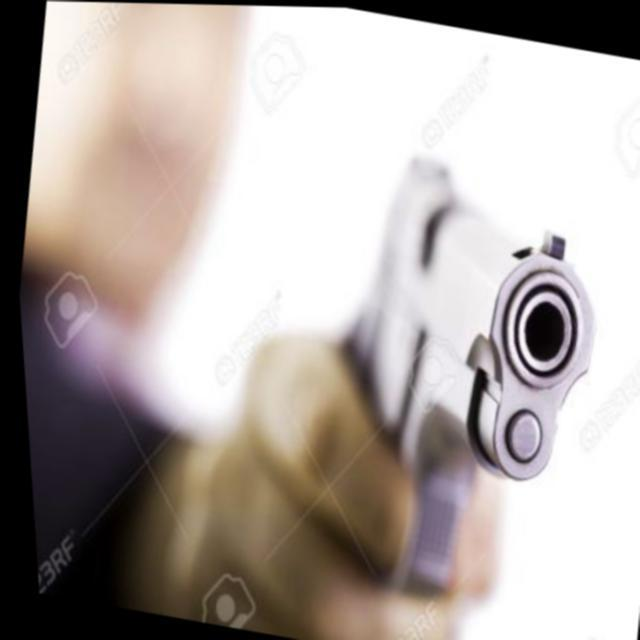weapon: (201, 113, 640, 640)
